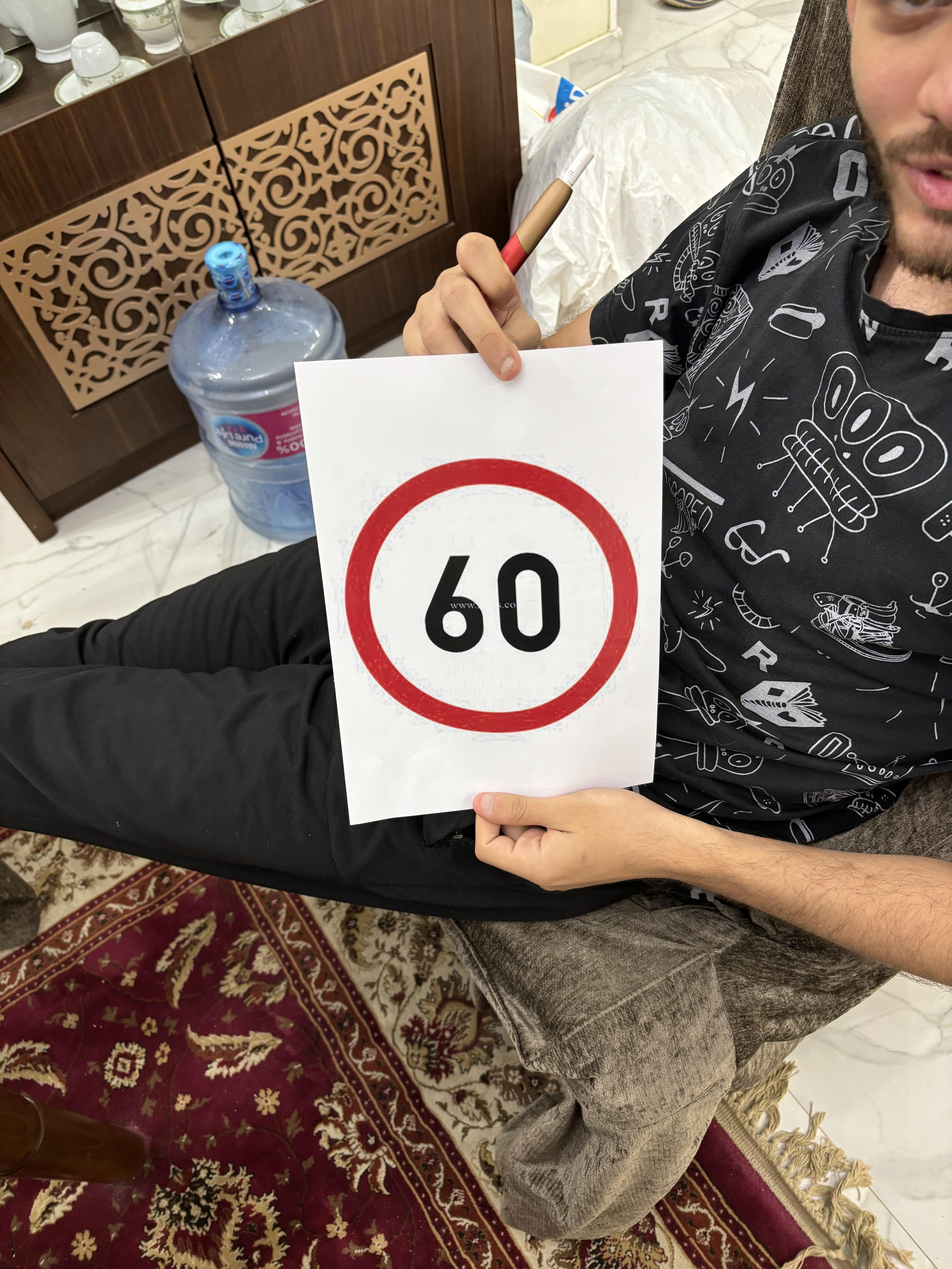60-Speed: (340, 447, 641, 742)
